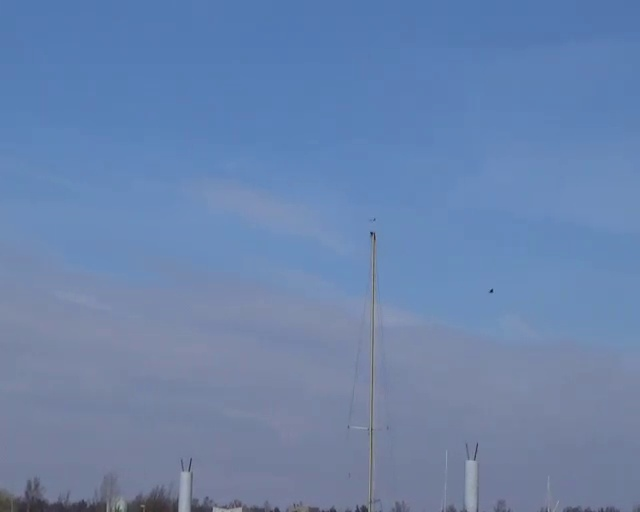BIRD: (488, 288, 494, 293)
